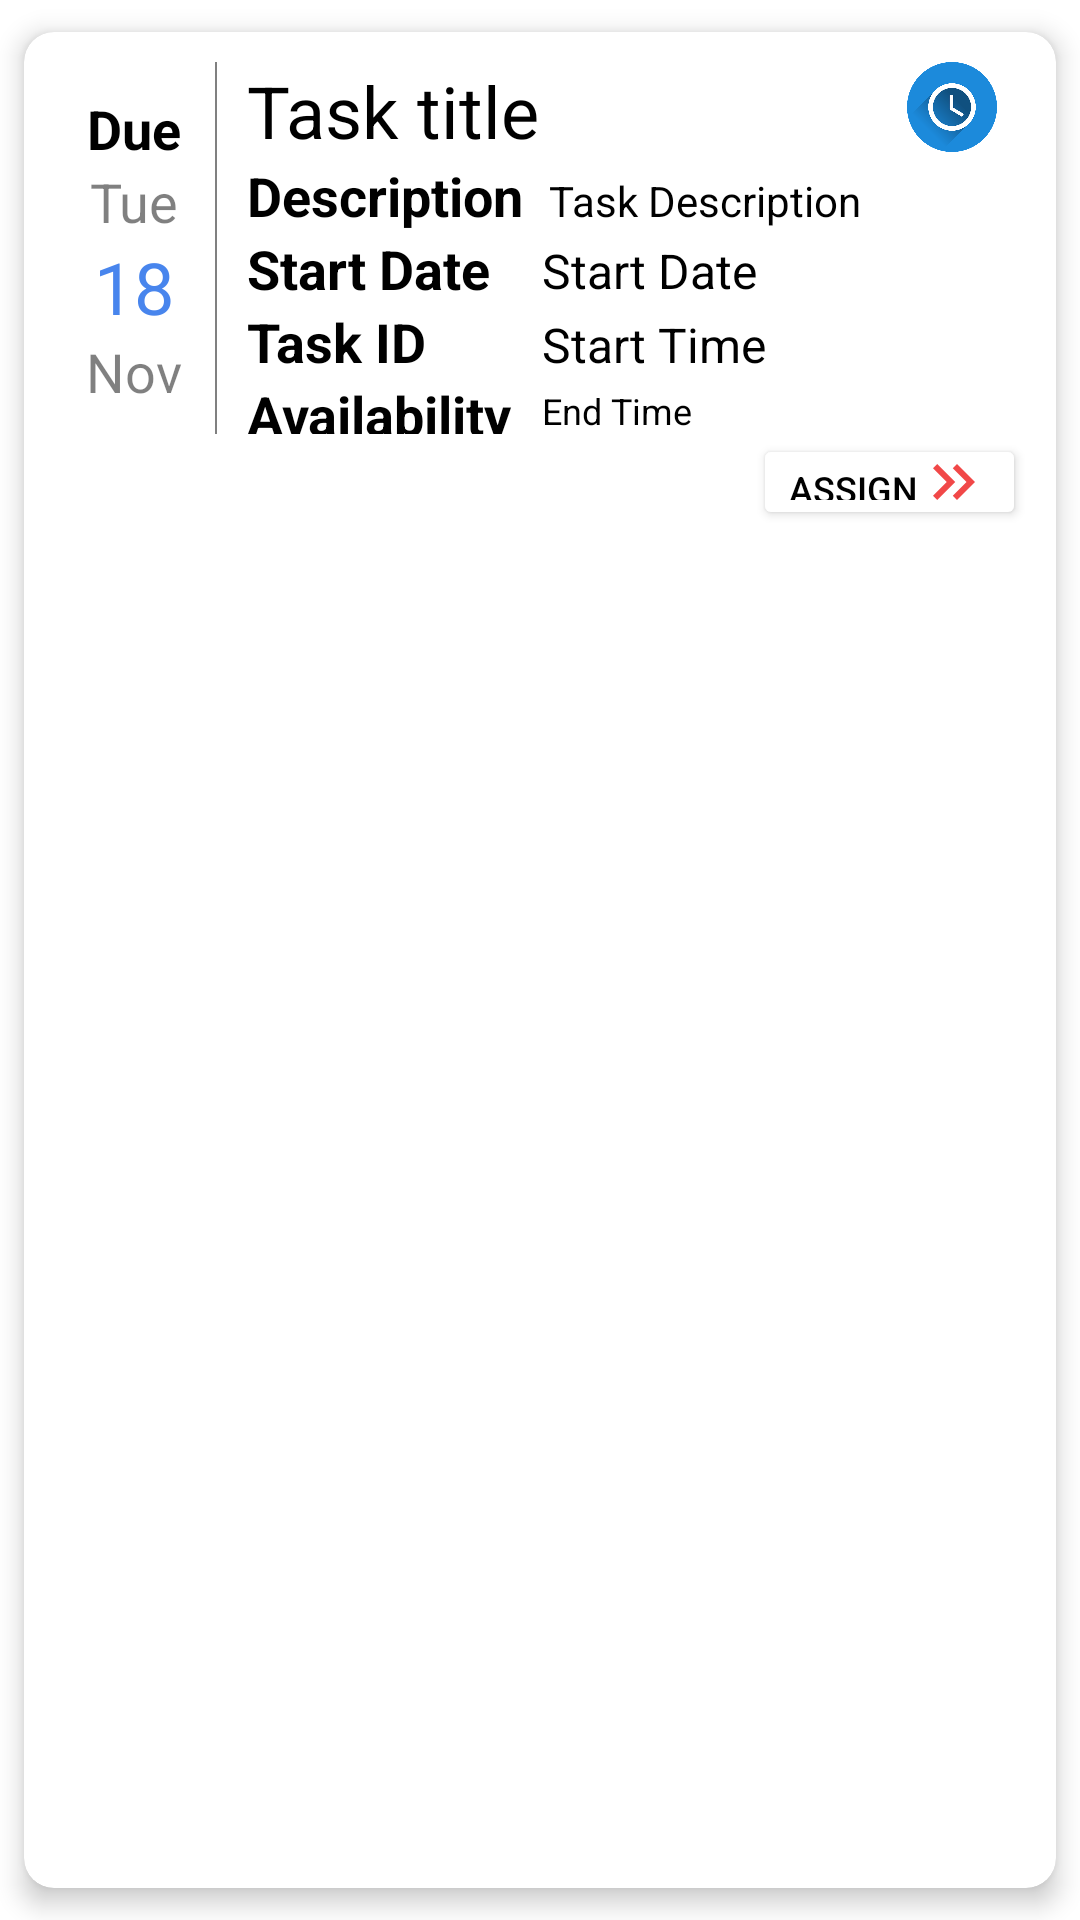

Named icons in this screenshot (1080px x 1920px) and their centers, (x=x, y=y):
time: (x=952, y=107)
